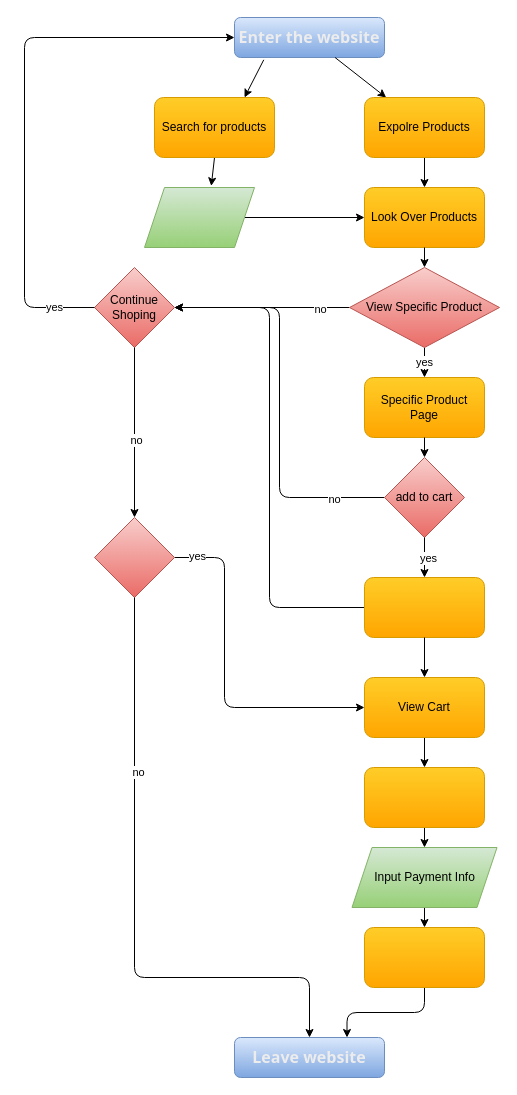
Image size: 517x1095. Some labels were removed from this diagram. The box of each missing label's shape, as (x1, y1, x2, y2) in pixels:
added to cart confirmation: (364, 576, 484, 638)
Checkout: (94, 516, 174, 598)
Order Confirmation: (364, 926, 484, 988)
Provide Search Input: (144, 186, 254, 248)
View Payment: (364, 766, 484, 828)
